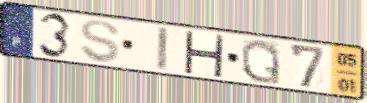3: (35, 12, 79, 60)
7: (288, 43, 328, 90)
H: (181, 29, 226, 79)
I: (155, 24, 171, 73)
Q: (239, 38, 283, 87)
S: (78, 18, 122, 64)
